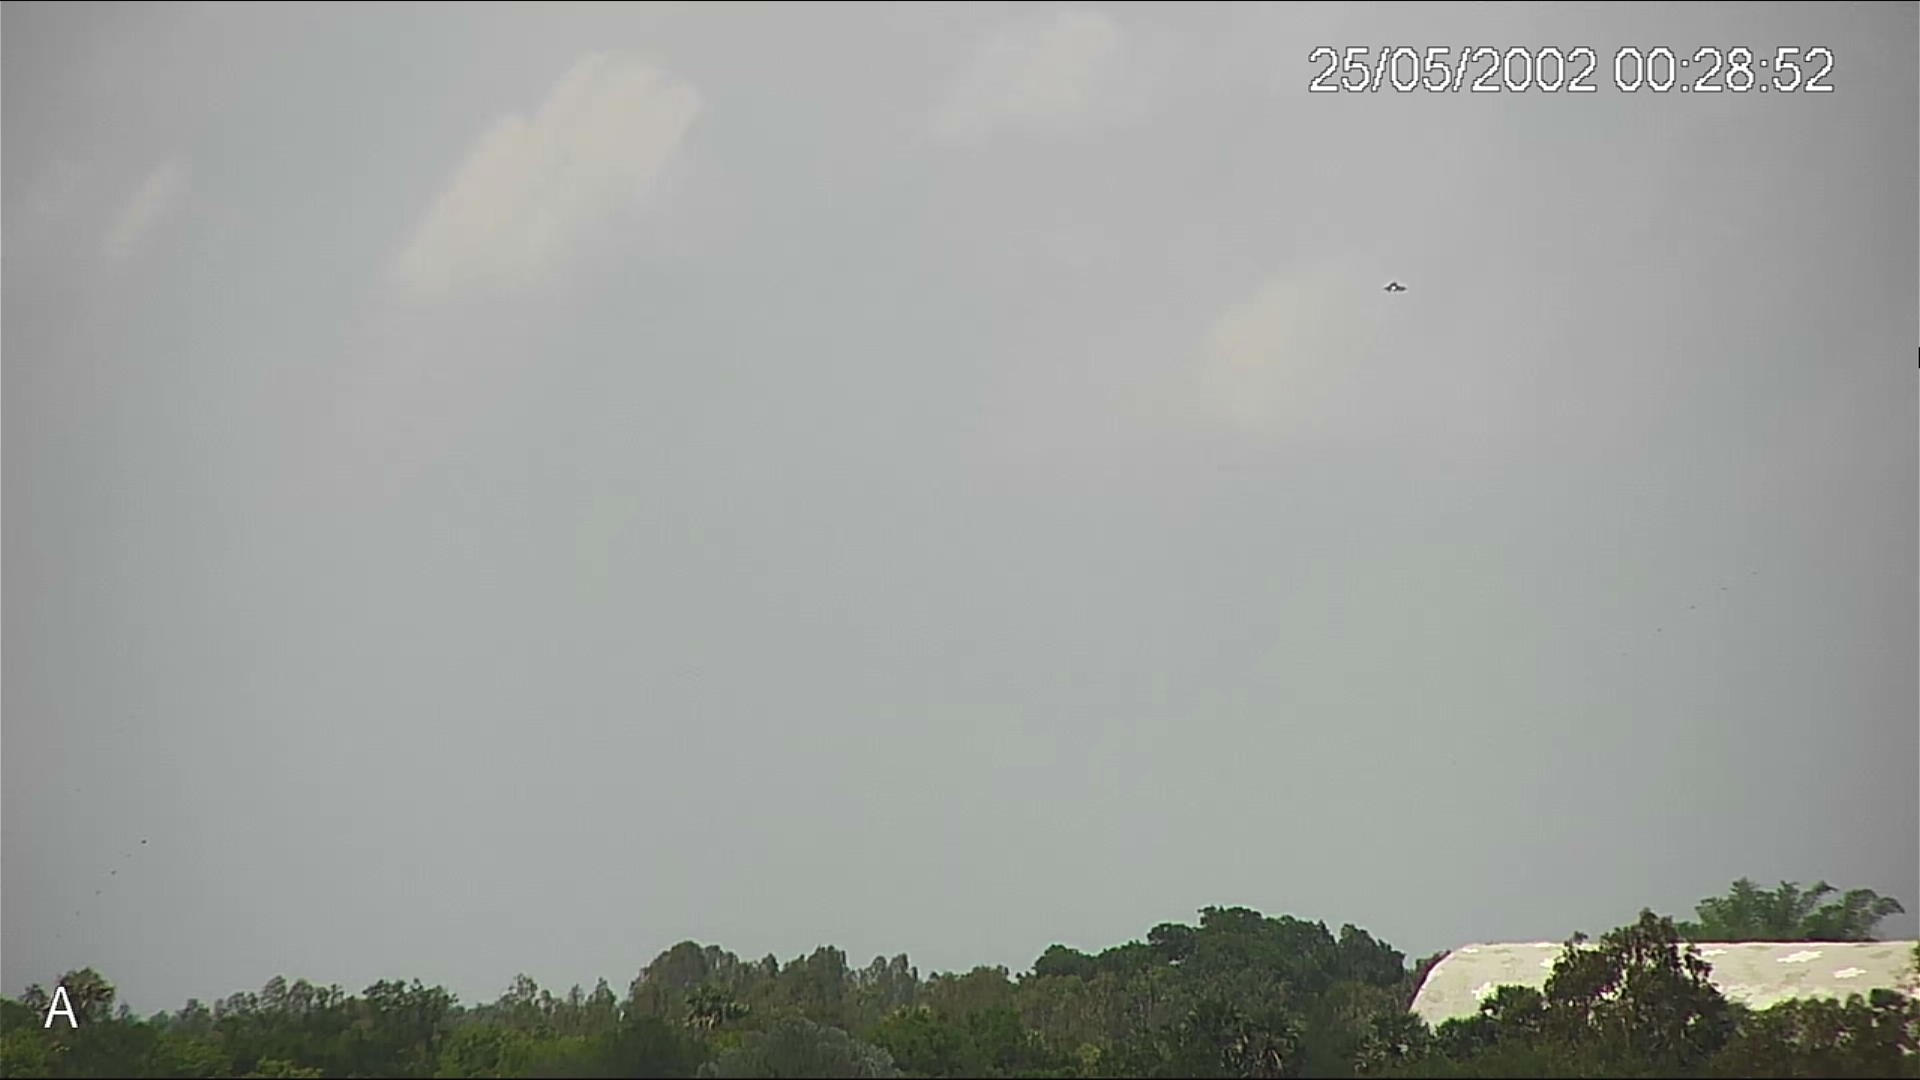SU_30: (1383, 282, 1404, 295)
